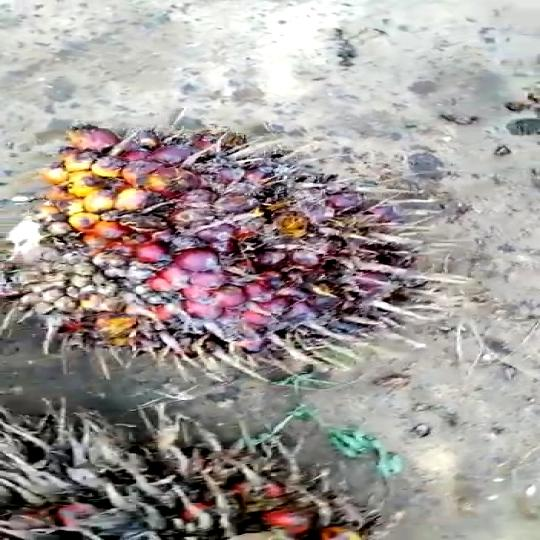masak: (23, 122, 475, 371)
